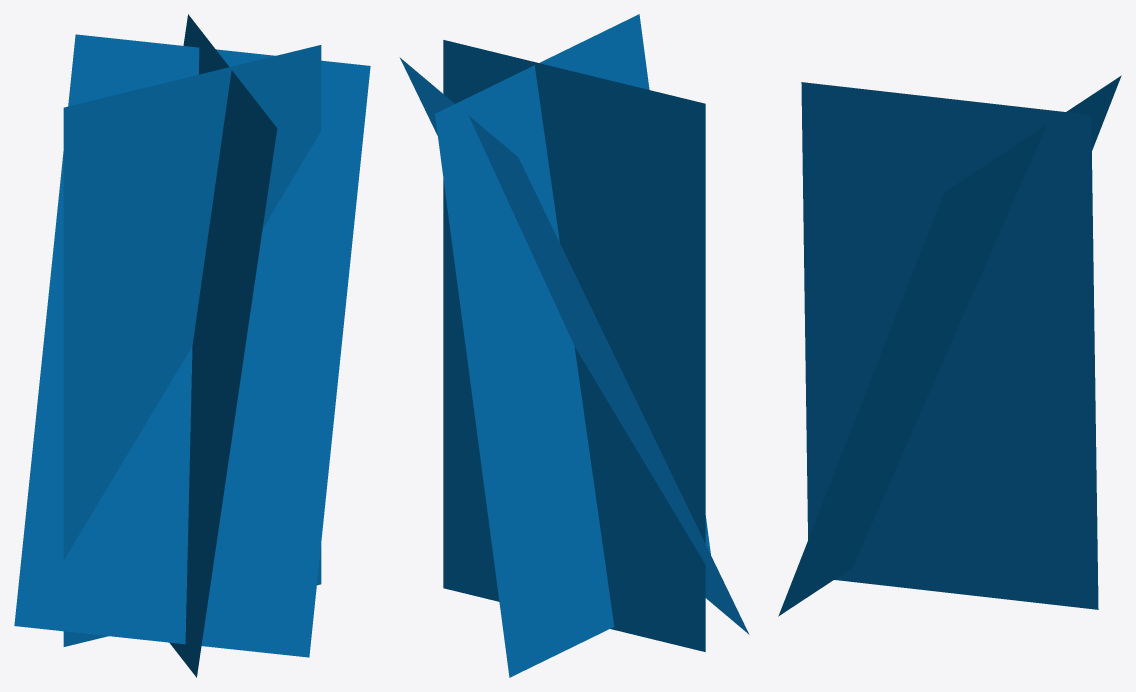
Rendered from Grass Blade (2) 1 WHEET.fbx.
The picture shows the model from 3 angles, left to right: view 1: azimuth 30°, elevation 25°; view 2: azimuth 150°, elevation 25°; view 3: azimuth 270°, elevation 25°; orthographic projection.
Parts seen in each view (by area): view 1: Quad 1, Quad, Quad (1); view 2: Quad, Quad (1), Quad 1; view 3: Quad (1), Quad 1.
Boxes of the visible parts, box(x1,y1,x2,y2) form: Quad 1: box(14, 34, 370, 657); Quad: box(63, 45, 321, 646); Quad (1): box(169, 14, 277, 677); Quad: box(443, 40, 705, 651); Quad (1): box(435, 14, 710, 677); Quad 1: box(399, 57, 749, 634); Quad (1): box(801, 82, 1098, 609); Quad 1: box(778, 75, 1121, 616).
Bounding box in the file's own units: 17.94 × 26.4 × 15.26.
